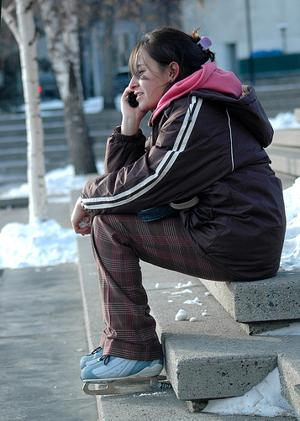person: (71, 25, 287, 382)
